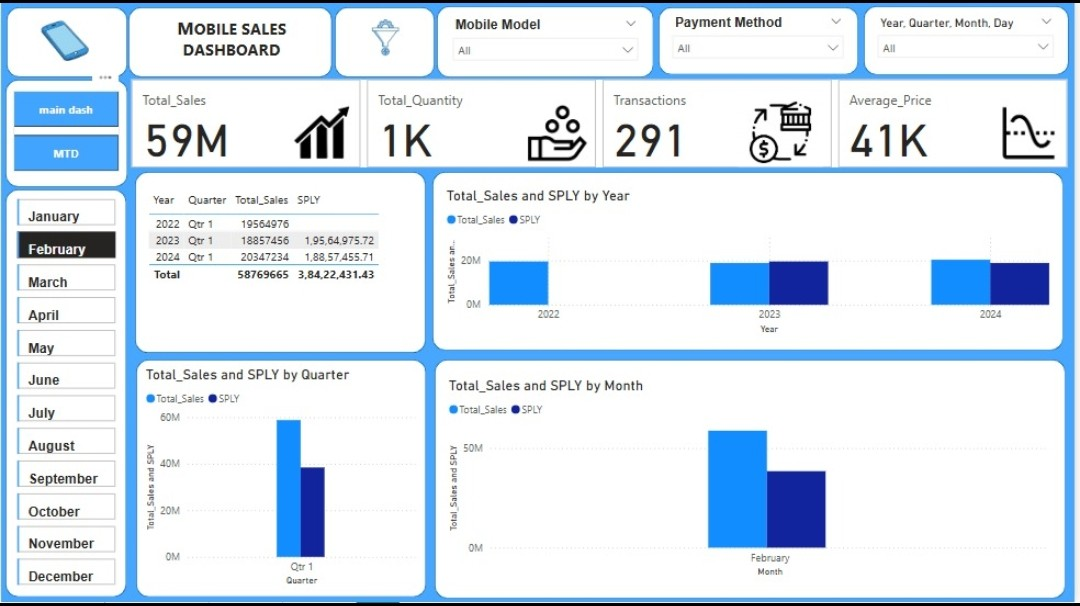

Layout of this report page (visuals, bound fields, positions):
{"tool":"powerbi","page":{"name":"SPLY","canvas":[1280,720],"ordinal":2},"visuals":[{"type":"shape","box":[160.2,207.2,346.8,216],"z":0},{"type":"shape","box":[6.2,10.8,143.9,83.6],"z":1000},{"type":"image","box":[12.2,20,128.7,64.8],"z":2000},{"type":"shape","box":[151.7,10.8,243,83.6],"z":3000},{"type":"textbox","box":[160.9,15.7,227.8,69.1],"z":4000},{"type":"shape","box":[397.8,10.8,119.2,83.6],"z":5000},{"type":"image","box":[408.6,15.5,99.1,61.9],"z":6000},{"type":"shape","box":[520,9.3,258.5,85.1],"z":7000},{"type":"shape","box":[784.7,10.8,238.4,80.5],"z":8000},{"type":"shape","box":[1029.3,9.3,244.5,82],"z":9000},{"type":"slicer","fields":{"Values":["sales.Mobile Model"]},"box":[529.3,17,241.5,60.4],"z":10000},{"type":"slicer","fields":{"Values":["sales.Payment Method"]},"box":[790.9,13.9,224.4,63.5],"z":11000},{"type":"shape","box":[5.7,96.8,145.5,128],"z":12000},{"type":"shape","box":[5.8,228.2,144.2,486.2],"z":13000},{"type":"cardVisual","fields":{"Data":["sales.Total_Sales","sales.Total_Quantity","sales.Transactions","sales.Average_Price"]},"box":[150,91.4,1129.9,115.9],"z":14000},{"type":"shape","box":[514.3,207.2,752.3,213.1],"z":15000},{"type":"shape","box":[517.2,430.5,752.3,285.1],"z":16000},{"type":"tableEx","fields":{"Values":["custom_calendar.dates.Variation.Date Hierarchy.Year","custom_calendar.dates.Variation.Date Hierarchy.Quarter","sales.Total_Sales","sales.SPLY"]},"box":[170.4,224.8,318.9,179.3],"z":17000},{"type":"slicer","fields":{"Values":["custom_calendar.dates.Variation.Date Hierarchy.Year","custom_calendar.dates.Variation.Date Hierarchy.Quarter","custom_calendar.dates.Variation.Date Hierarchy.Month","custom_calendar.dates.Variation.Date Hierarchy.Day"]},"box":[1035.4,16.2,230.4,68.5],"z":18000},{"type":"clusteredColumnChart","fields":{"Category":["custom_calendar.dates.Variation.Date Hierarchy.Year"],"Y":["sales.Total_Sales","sales.SPLY"]},"box":[526,224.8,728.8,179.3],"z":19000},{"type":"shape","box":[160.9,430.5,345.9,283.5],"z":20000},{"type":"clusteredColumnChart","fields":{"Category":["custom_calendar.dates.Variation.Date Hierarchy.Month"],"Y":["sales.Total_Sales","sales.SPLY"]},"box":[529,451.1,725.9,242.4],"z":21000},{"type":"clusteredColumnChart","fields":{"Category":["custom_calendar.dates.Variation.Date Hierarchy.Quarter"],"Y":["sales.Total_Sales","sales.SPLY"]},"box":[167.3,438.7,331.6,266.5],"z":22000},{"type":"advancedSlicerVisual","fields":{"Values":["custom_calendar.dates.Variation.Date Hierarchy.Month"]},"box":[14.9,234.3,127.6,473.5],"z":23000},{"type":"pageNavigator","box":[14.7,110.2,126.4,97],"z":24000}]}

Visuals, with their boxes in screenshot pixels (x1, y1, x2, y2), scaled from the page's 1280x720 canvas onto the 1080x606 screenshot:
shape: bbox=[135, 174, 428, 356]
shape: bbox=[5, 9, 127, 79]
image: bbox=[10, 17, 119, 71]
shape: bbox=[128, 9, 333, 79]
textbox: bbox=[136, 13, 328, 71]
shape: bbox=[336, 9, 436, 79]
image: bbox=[345, 13, 428, 65]
shape: bbox=[439, 8, 657, 79]
shape: bbox=[662, 9, 863, 77]
shape: bbox=[868, 8, 1075, 77]
slicer - sales.Mobile Model: bbox=[447, 14, 650, 65]
slicer - sales.Payment Method: bbox=[667, 12, 857, 65]
shape: bbox=[5, 81, 128, 189]
shape: bbox=[5, 192, 127, 601]
cardVisual - sales.Total_Sales x sales.Total_Quantity: bbox=[127, 77, 1079, 174]
shape: bbox=[434, 174, 1069, 354]
shape: bbox=[436, 362, 1071, 602]
tableEx - custom_calendar.dates.Variation.Date Hierarchy.Year x custom_calendar.dates.Variation.Date Hierarchy.Quarter: bbox=[144, 189, 413, 340]
slicer - custom_calendar.dates.Variation.Date Hierarchy.Year x custom_calendar.dates.Variation.Date Hierarchy.Quarter: bbox=[874, 14, 1068, 71]
clusteredColumnChart - custom_calendar.dates.Variation.Date Hierarchy.Year x sales.Total_Sales: bbox=[444, 189, 1059, 340]
shape: bbox=[136, 362, 428, 601]
clusteredColumnChart - custom_calendar.dates.Variation.Date Hierarchy.Month x sales.Total_Sales: bbox=[446, 380, 1059, 584]
clusteredColumnChart - custom_calendar.dates.Variation.Date Hierarchy.Quarter x sales.Total_Sales: bbox=[141, 369, 421, 594]
advancedSlicerVisual - custom_calendar.dates.Variation.Date Hierarchy.Month: bbox=[13, 197, 120, 596]
pageNavigator: bbox=[12, 93, 119, 174]
